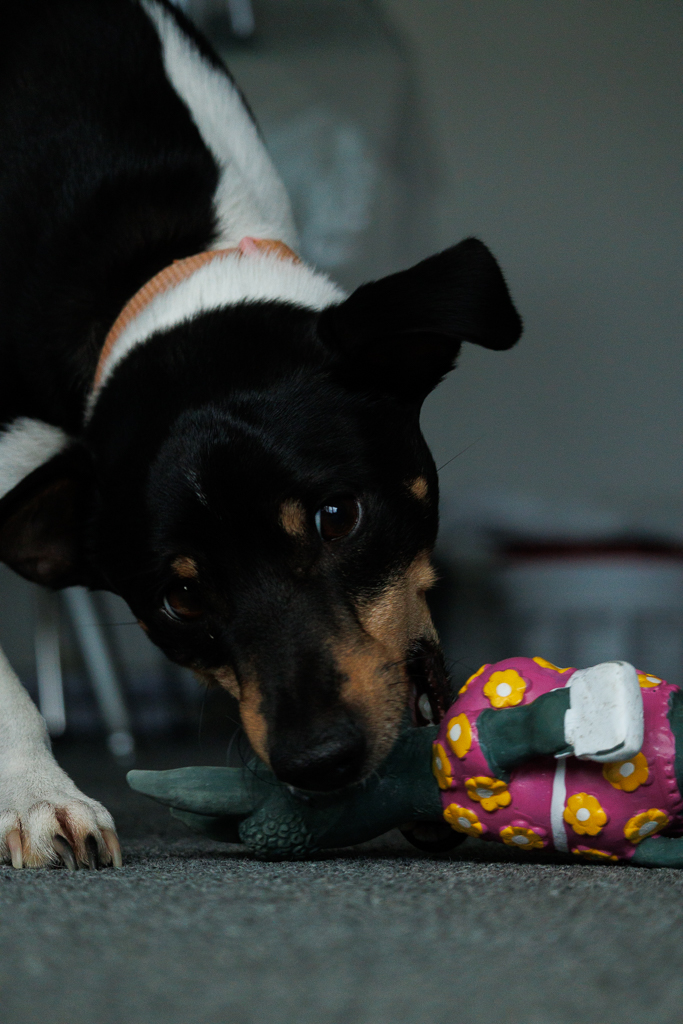Dog: (0, 0, 539, 884)
Humanoid: (116, 647, 683, 875)
